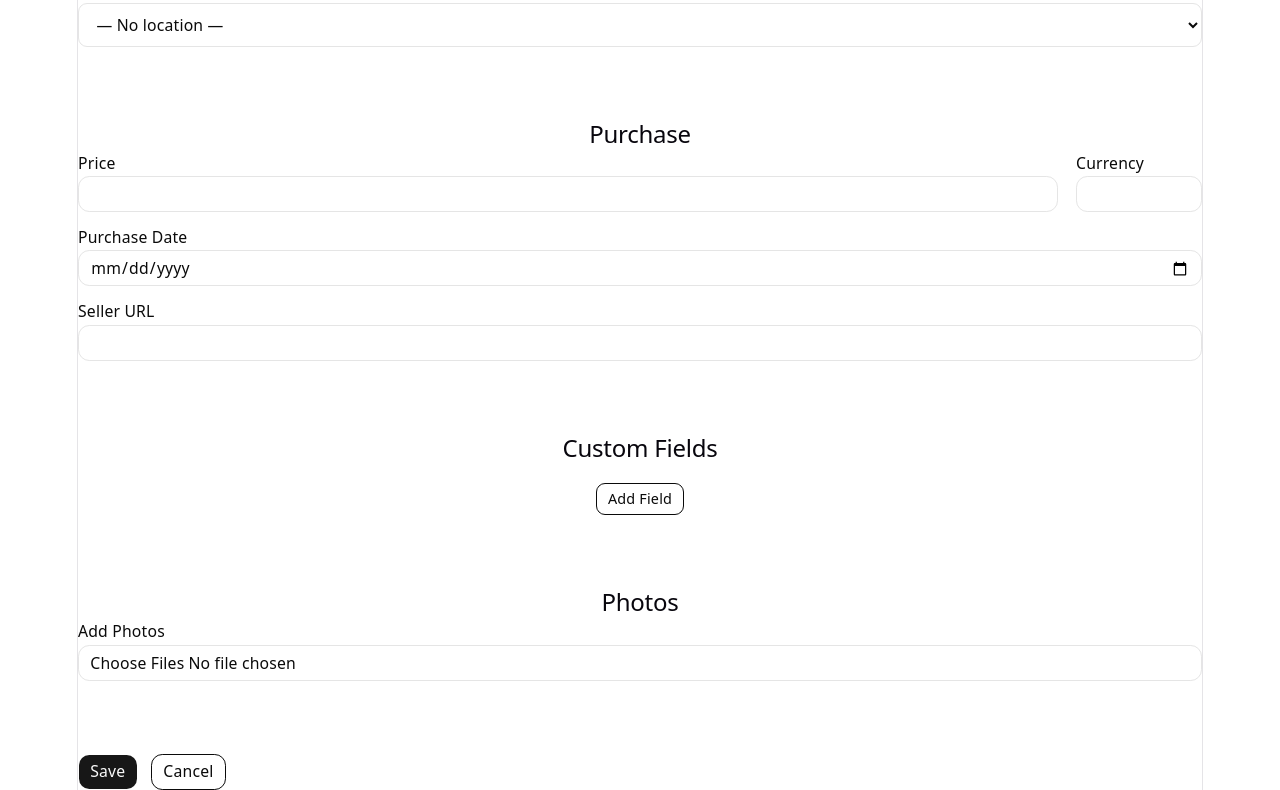
it: ItemForm › ItemForm should add a metadata row when Add Field is clicked in create mode
(page scrolled)
Click the button "Add Field": point(640, 499) x1=596 y1=483 x2=684 y2=515
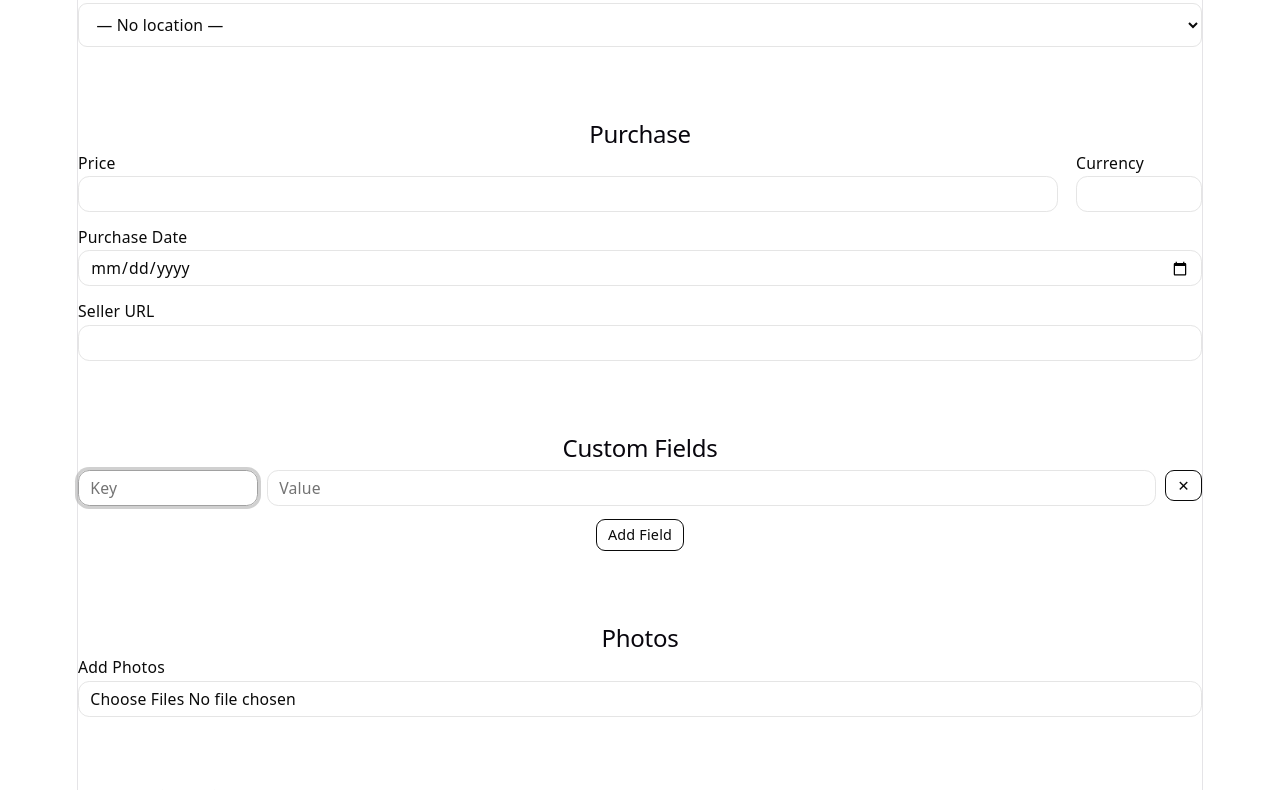
Expected: the field with placeholder "Key" is shown, x1=78 y1=470 x2=258 y2=506
